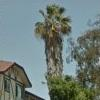Palm tree: (32, 3, 88, 90)
